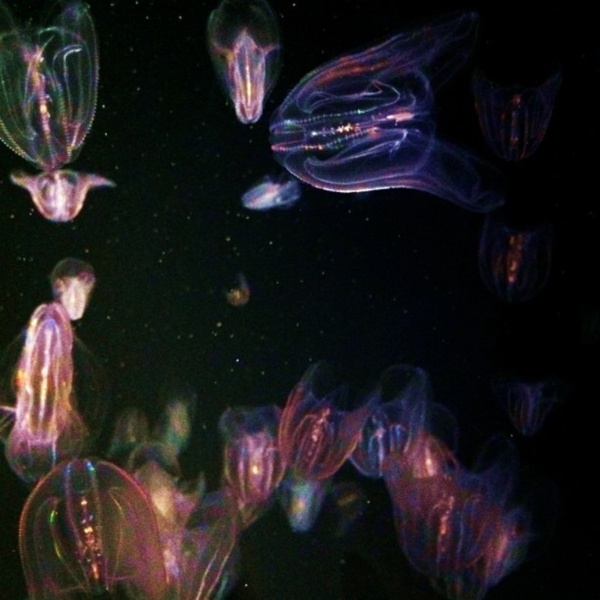Jellyfish: (0, 260, 523, 599), (270, 34, 454, 202), (0, 0, 105, 219), (15, 456, 171, 599), (204, 2, 284, 127)
